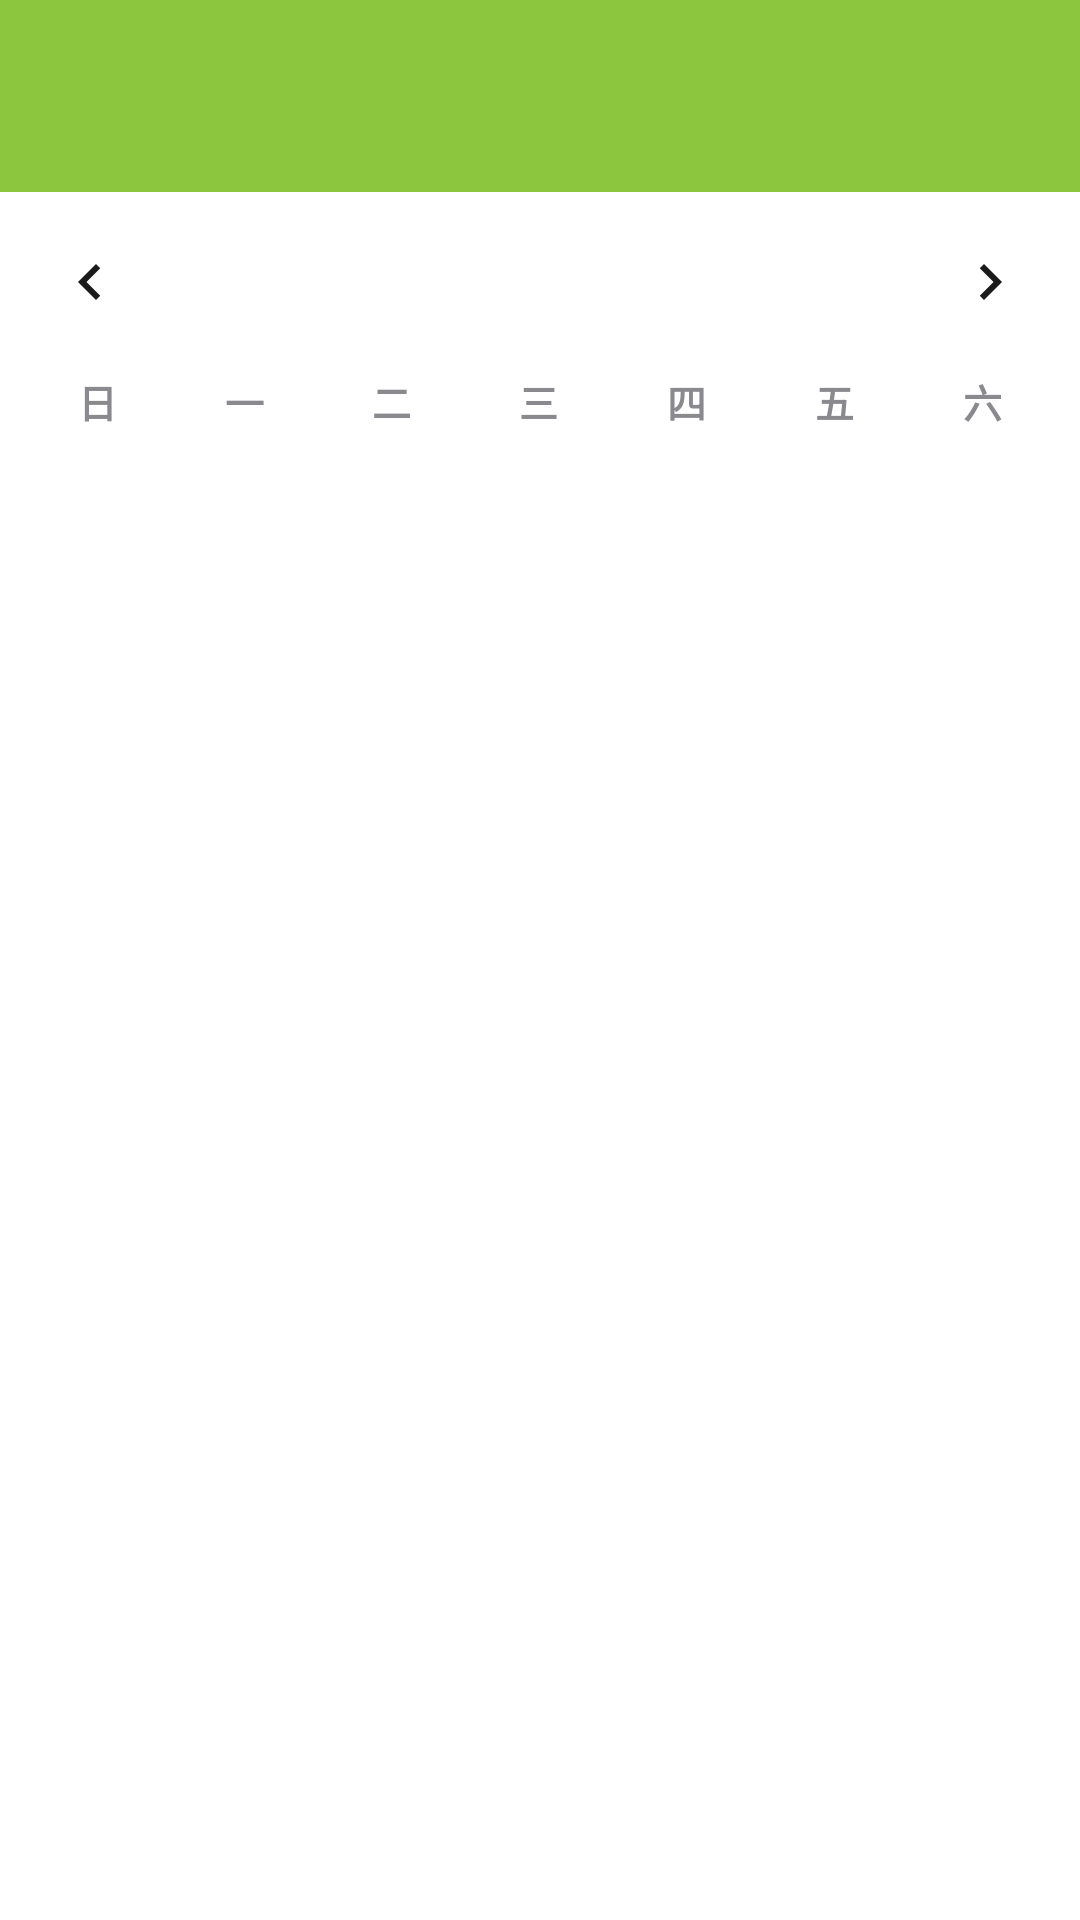

Where icons sit on this 1080 x 1920 app screen, as (x1, y1, x2, y2):
上个月: (78, 264, 100, 300)
下个月: (980, 264, 1002, 300)
